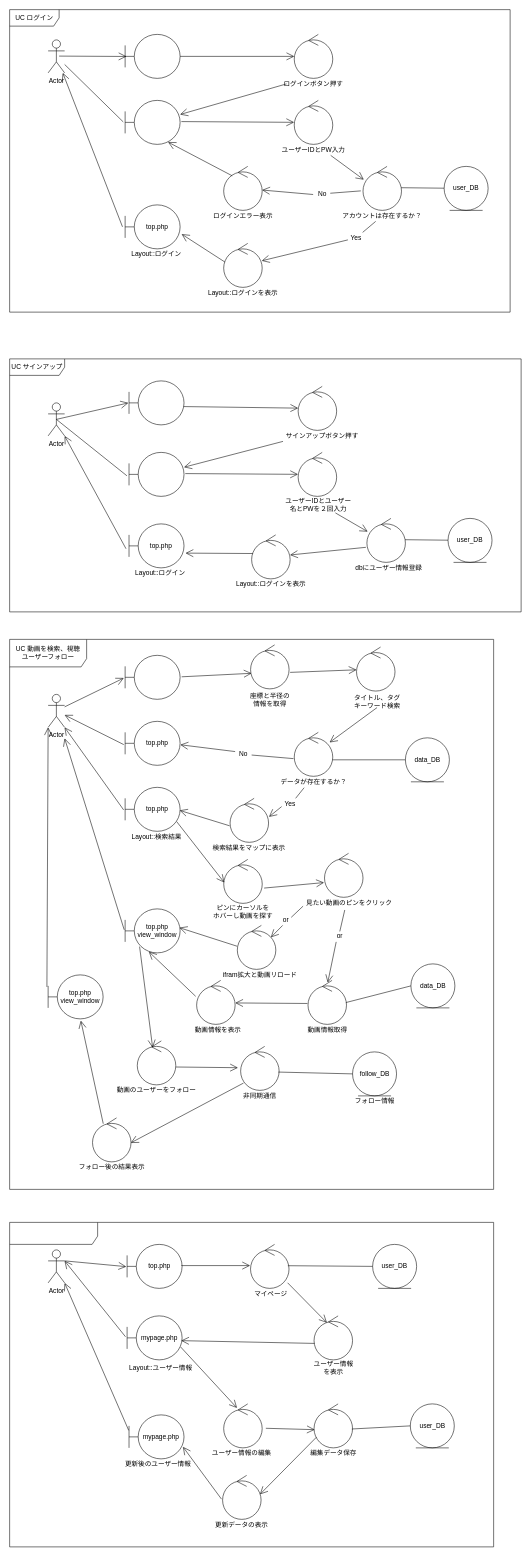
This 531x1557 diagram has some shape labels left out. The shapes that lost their labels are listed below. From the top down, each one's centre as x and y in pixels, then its label:
At (152,56): "top.php login_window".
At (152,122): "login_popup".
At (156,402): "top.php signup_window".
At (156,474): "signup_popup".
At (152,677): "top.php search_window".
At (251,1384): "カテゴリで動画検索".
